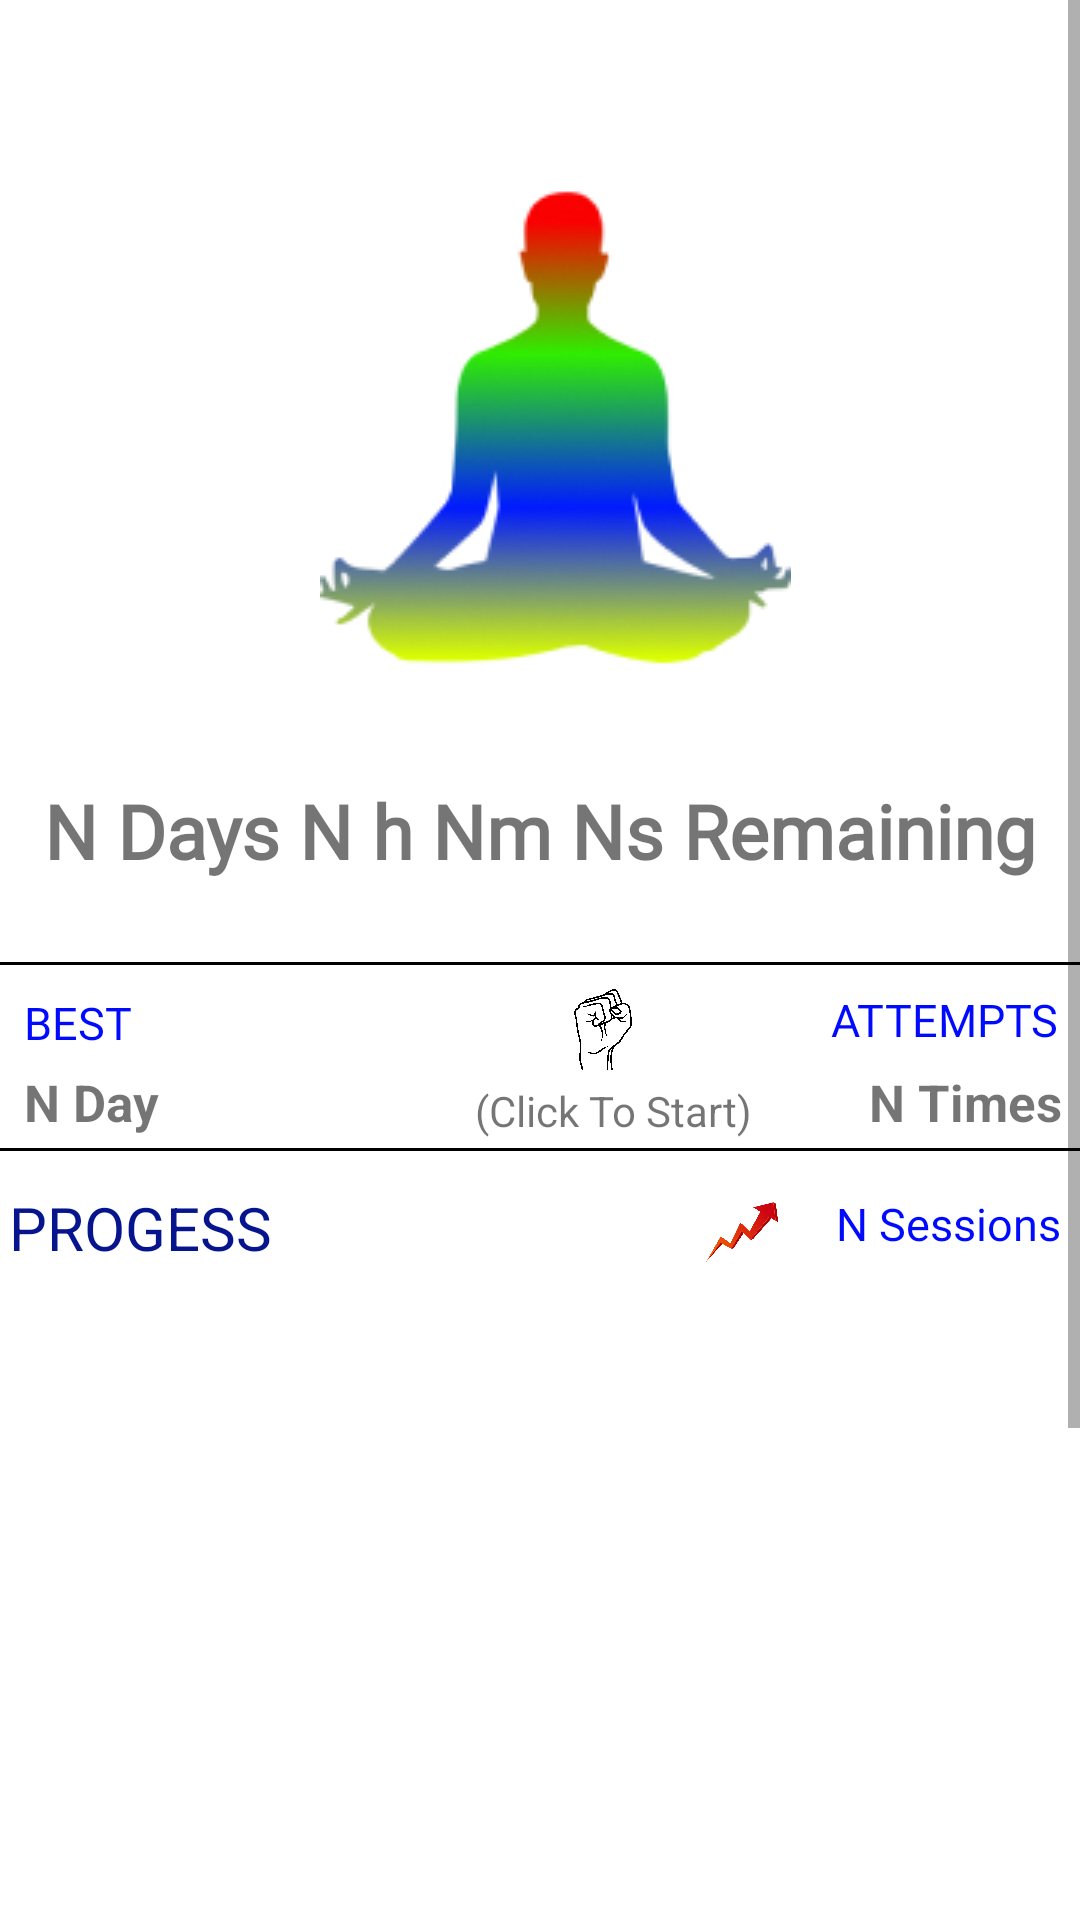

Screen size 1080px x 1920px. Icon name, then its center in pixels as [x,y]:
electricarrow: [742,1232]
handicon: [603,1029]
